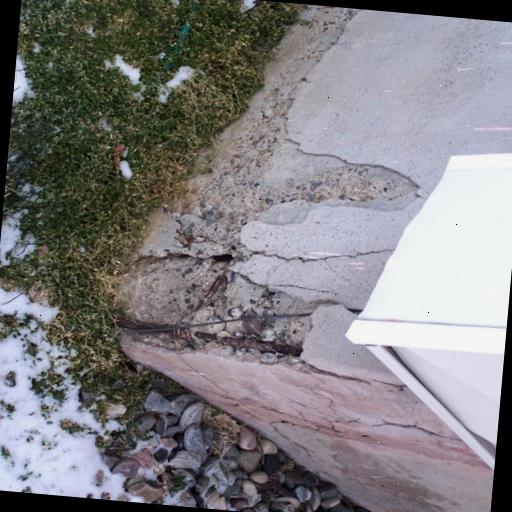spalling: (114, 4, 420, 364), (307, 356, 412, 399), (250, 237, 387, 267)
